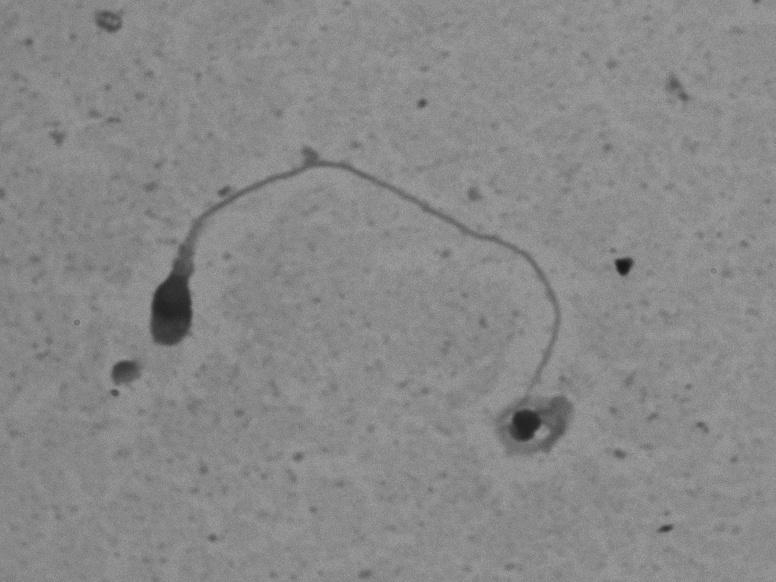Abnormal: (123, 131, 591, 458)
